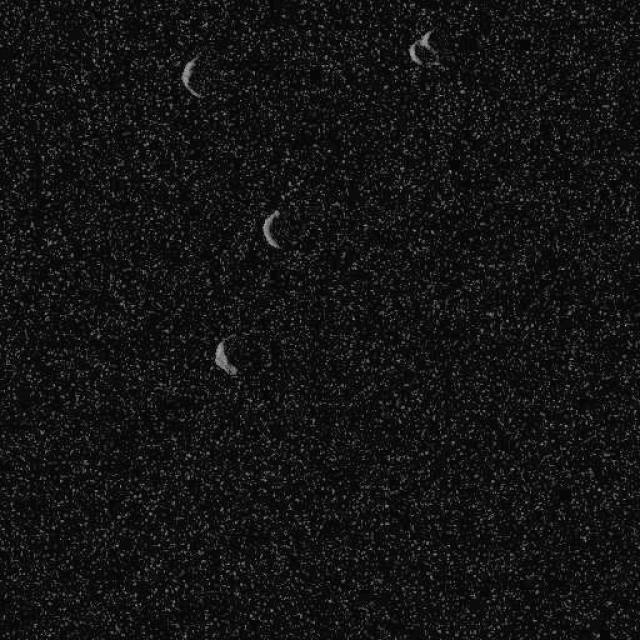D2: (406, 28, 439, 68), (178, 54, 204, 98), (212, 335, 238, 376), (262, 208, 282, 248)
